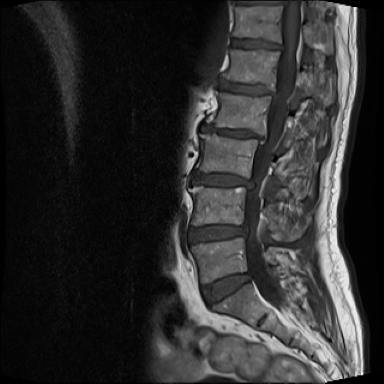Degenerative Disc Disease (DDD): (223, 32, 286, 54)
Lumbar Disc Bulge (LDB): (186, 156, 261, 197), (183, 207, 251, 252), (190, 114, 274, 145), (208, 71, 290, 101)
Normal IVD: (196, 266, 255, 311)
Spinal Stenosis (SS): (249, 126, 275, 154), (264, 80, 286, 110), (236, 215, 256, 247), (243, 169, 263, 195)
